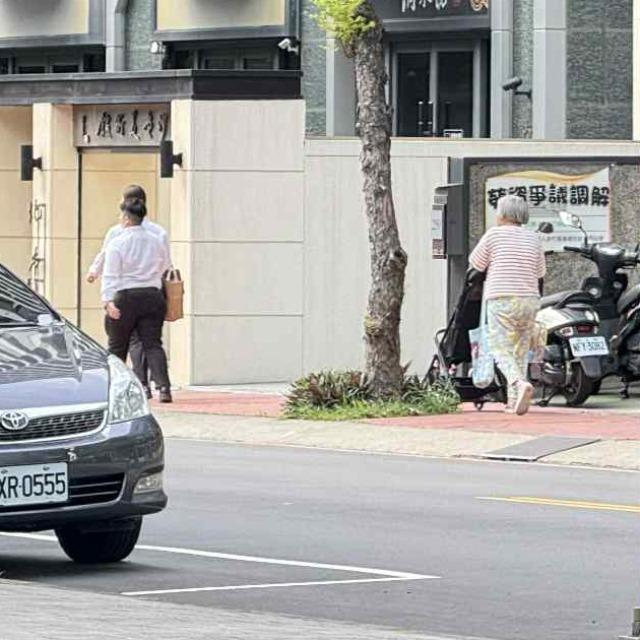NoVest: (480, 221, 547, 300)
